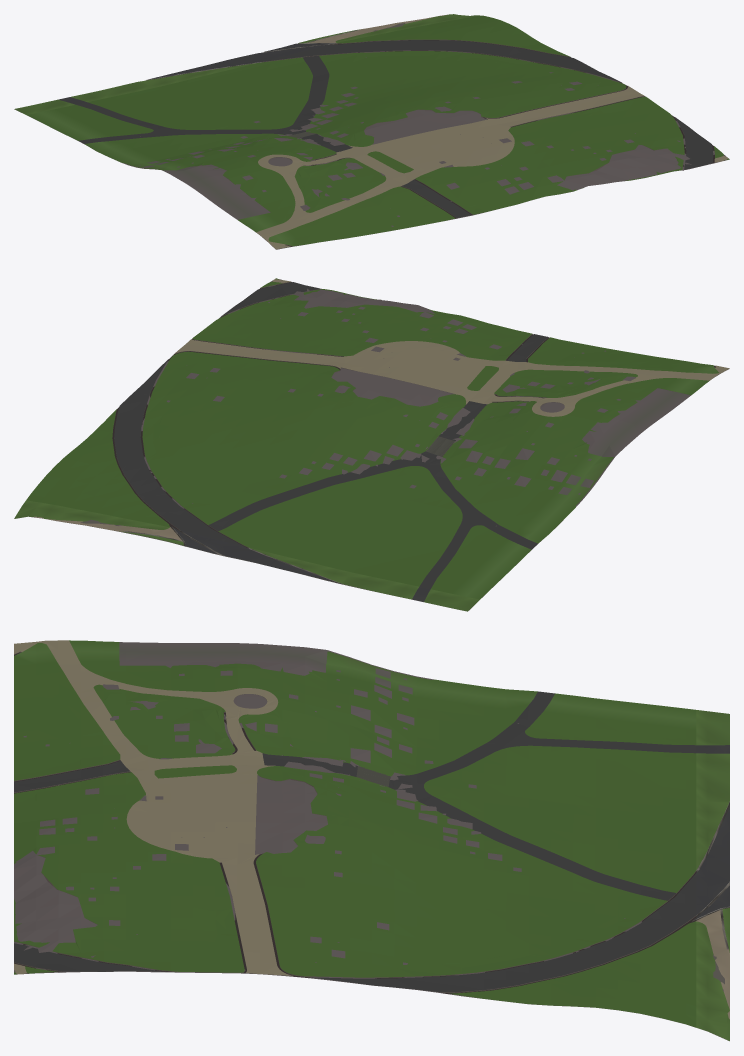
3 views of the same model, one above another, from view 1: azimuth 30°, elevation 25°; view 2: azimuth 150°, elevation 25°; view 3: azimuth 270°, elevation 25° (orthographic). The views are drawn at different scales.
Parts seen in each view (by area): view 1: c_p00_p06; view 2: c_p00_p06; view 3: c_p00_p06.
Boxes of the visible parts, box(x1,y1,x2,y2) form: c_p00_p06: box(14, 14, 729, 249); c_p00_p06: box(14, 278, 729, 611); c_p00_p06: box(14, 640, 729, 1041).
Bounding box in the file's own units: 128 × 19.57 × 128.
